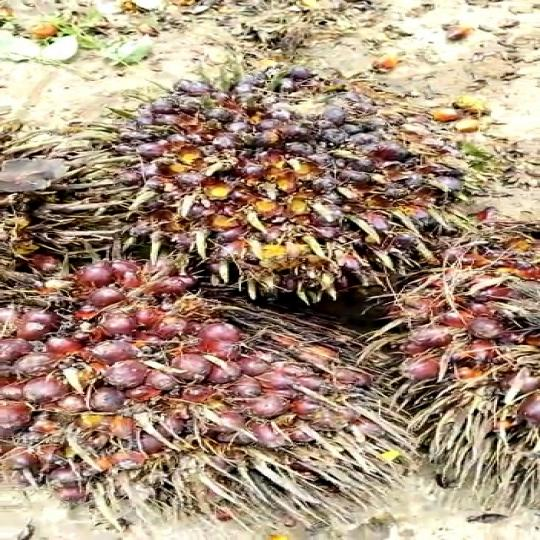masak: (0, 257, 426, 519), (77, 60, 496, 314)
